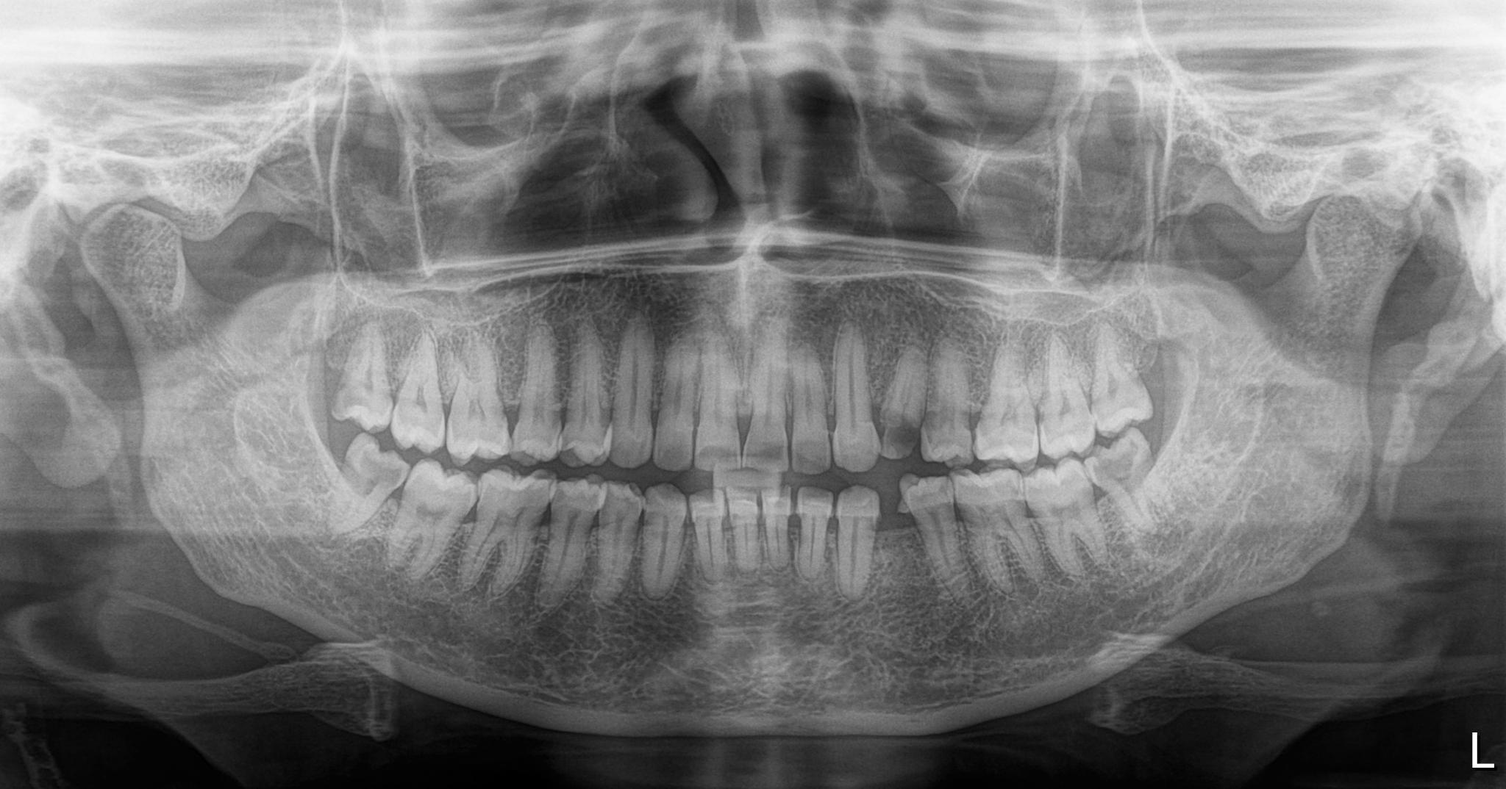Dental Caries: (724, 393, 763, 449), (882, 411, 923, 456)
Impacted Third Molar: (1085, 452, 1186, 522), (329, 444, 401, 534)
Missing Tooth: (882, 505, 918, 587)
